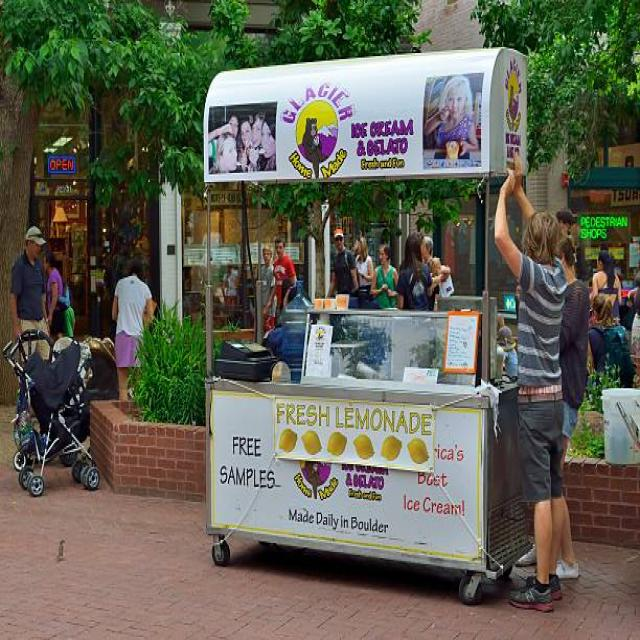Emperan: (179, 40, 558, 594)
